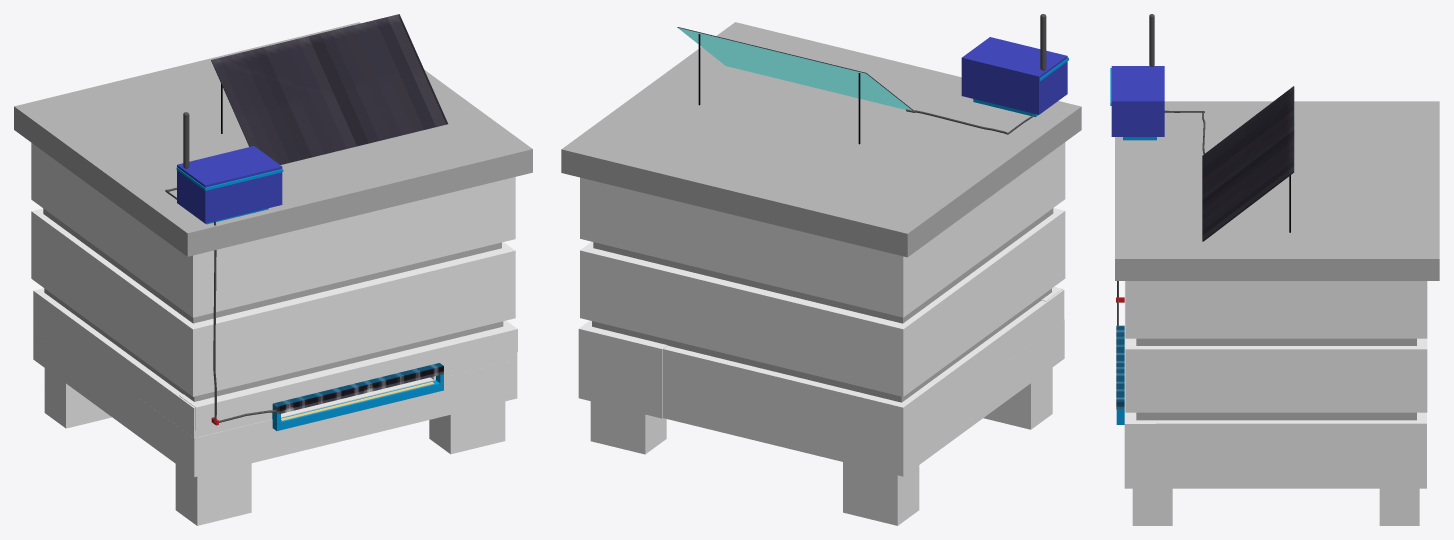
The model's file is hivef.glb.
3 views of the same model, side by side, from view 1: azimuth 30°, elevation 25°; view 2: azimuth 150°, elevation 25°; view 3: azimuth 270°, elevation 25° (orthographic). The views are drawn at different scales.
Parts seen in each view (by area): view 1: mesh_id65, mesh_id33, mesh_id46, mesh_id238, mesh_id99, mesh_id156, mesh_id177, mesh_id168, mesh_id140, mesh_id40, mesh_id117, mesh_id56 (+6 smaller); view 2: mesh_id65, mesh_id33, mesh_id46, mesh_id168, mesh_id55, mesh_id99, mesh_id150, mesh_id177, mesh_id238, mesh_id123, mesh_id40, mesh_id105 (+2 smaller); view 3: mesh_id65, mesh_id33, mesh_id46, mesh_id168, mesh_id238, mesh_id150, mesh_id99, mesh_id177, mesh_id56, mesh_id40, mesh_id105, mesh_id117 (+2 smaller).
Part boxes in pixels (x1,y1,x2,y2): mesh_id65: (14,22,532,256); mesh_id33: (31,208,515,396); mesh_id46: (31,143,515,317); mesh_id238: (211,14,447,164); mesh_id99: (33,321,517,477); mesh_id156: (179,320,517,430); mesh_id177: (177,146,282,223); mesh_id168: (33,288,144,397); mesh_id140: (175,463,251,525); mesh_id40: (43,208,501,323); mesh_id117: (429,401,505,454); mesh_id56: (44,288,503,401); mesh_id65: (561,22,1081,257); mesh_id33: (580,208,1065,396); mesh_id46: (580,142,1065,317); mesh_id168: (663,328,1009,476); mesh_id55: (819,289,1064,475); mesh_id99: (721,320,1064,476); mesh_id150: (578,320,667,418); mesh_id177: (961,37,1067,114); mesh_id238: (677,27,913,110); mesh_id123: (843,462,919,525); mesh_id40: (593,208,1053,323); mesh_id105: (590,401,666,454); mesh_id65: (1115,101,1439,280); mesh_id33: (1125,338,1427,412); mesh_id46: (1125,281,1427,338); mesh_id168: (1227,424,1425,488); mesh_id238: (1202,86,1294,241); mesh_id150: (1124,386,1426,488); mesh_id99: (1124,452,1412,488); mesh_id177: (1111,66,1164,136); mesh_id56: (1136,412,1416,420); mesh_id40: (1136,338,1416,345); mesh_id105: (1379,488,1419,525); mesh_id117: (1132,488,1172,525).
Bounding box in the file's own units: 0.1811 × 0.2036 × 0.1599.
20 materials, 20 textured.
